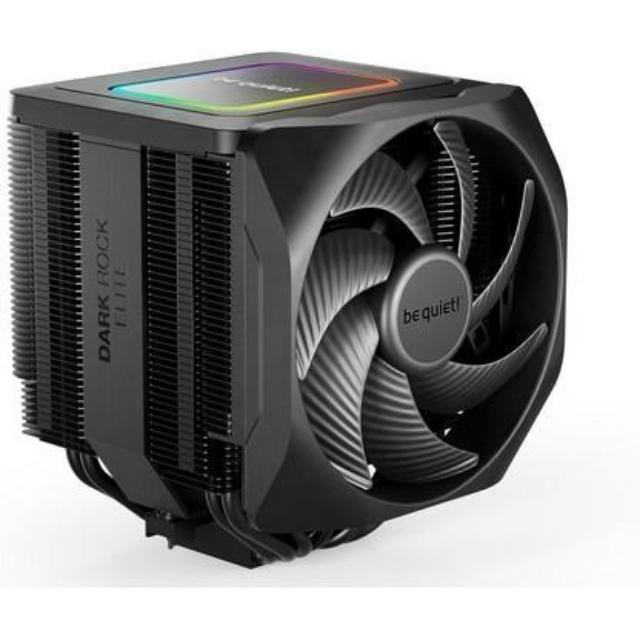CPU_Fan: (3, 49, 568, 571)
